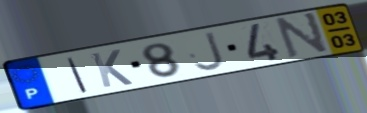4: (246, 21, 283, 63)
8: (139, 42, 185, 80)
I: (65, 56, 91, 94)
J: (192, 30, 227, 73)
K: (88, 48, 136, 89)
N: (275, 10, 331, 60)
